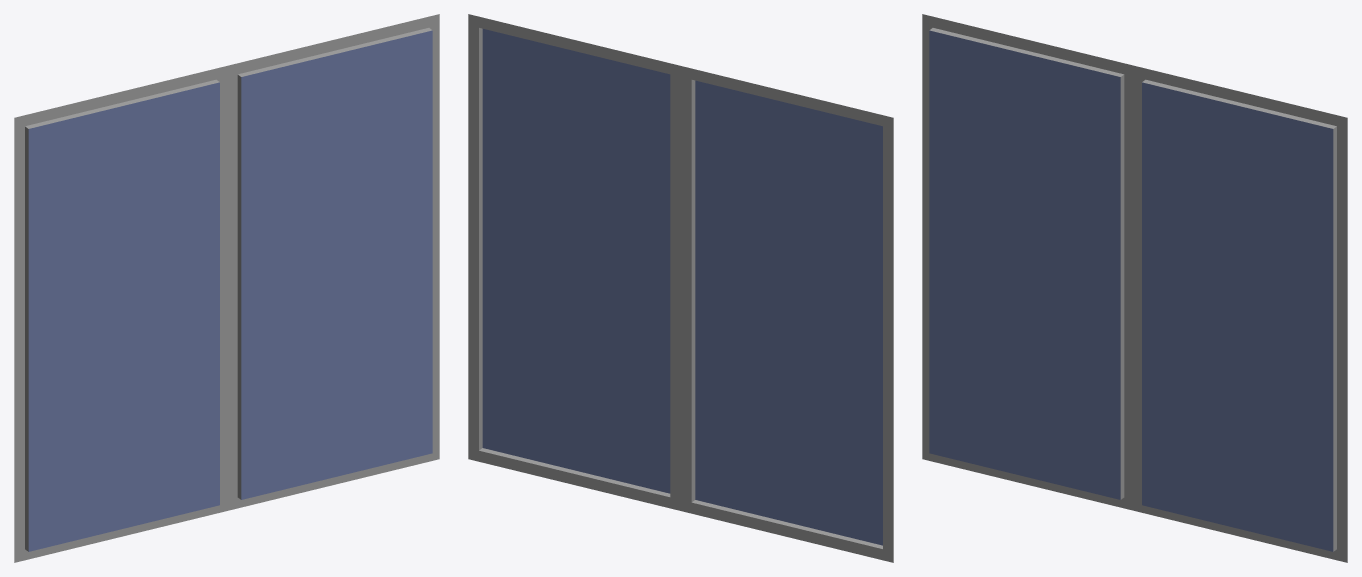
The model's file is Window-Glass.fbx.
The picture shows the model from 3 angles, left to right: view 1: azimuth 30°, elevation 25°; view 2: azimuth 150°, elevation 25°; view 3: azimuth 330°, elevation 25°; orthographic projection.
Parts seen in each view (by area): view 1: WindowGlass; view 2: WindowGlass; view 3: WindowGlass.
Boxes of the visible parts, x1=… form: WindowGlass: x1=14, y1=14, x2=439, y2=562; WindowGlass: x1=468, y1=14, x2=893, y2=562; WindowGlass: x1=922, y1=14, x2=1347, y2=562.
Size of the model in its own units: 1 by 1 by 0.015.
